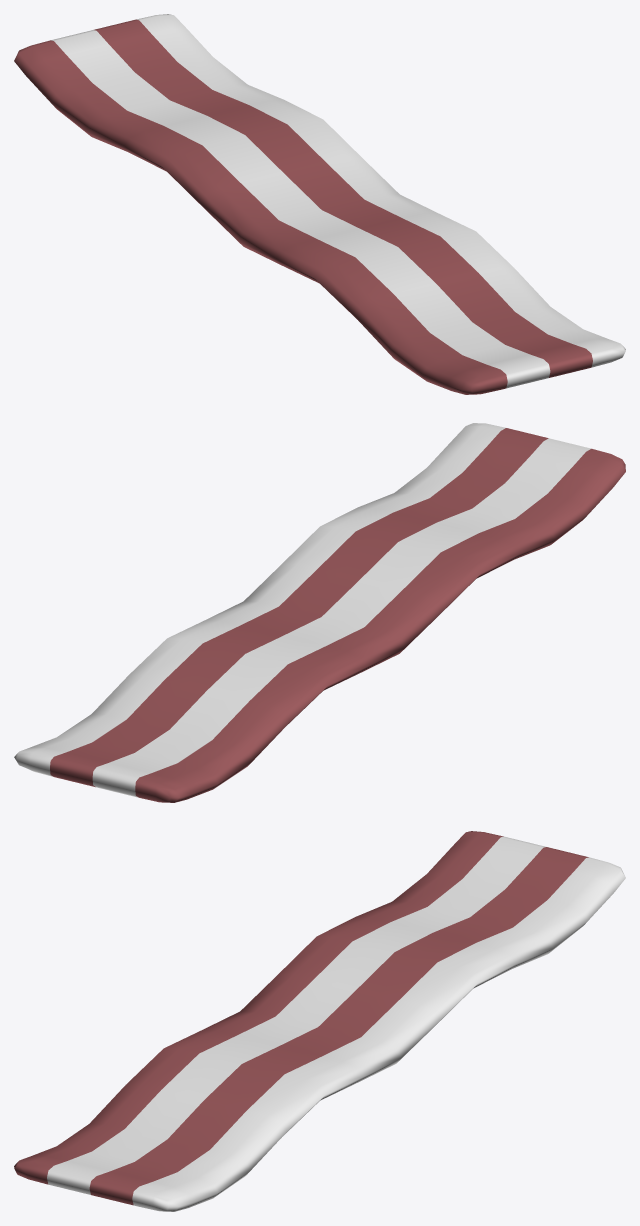
The model's file is Bacon.fbx.
3 views of the same model, one above another, from view 1: azimuth 30°, elevation 25°; view 2: azimuth 150°, elevation 25°; view 3: azimuth 330°, elevation 25° (orthographic).
Visible parts, largest first — view 1: Cube.001; view 2: Cube.001; view 3: Cube.001.
Part boxes in pixels (left/top/right/bottom): Cube.001: left=14, top=14, right=625, bottom=394; Cube.001: left=14, top=423, right=625, bottom=802; Cube.001: left=14, top=831, right=625, bottom=1211.
Size of the model in its own units: 33.39 by 8.05 by 159.
